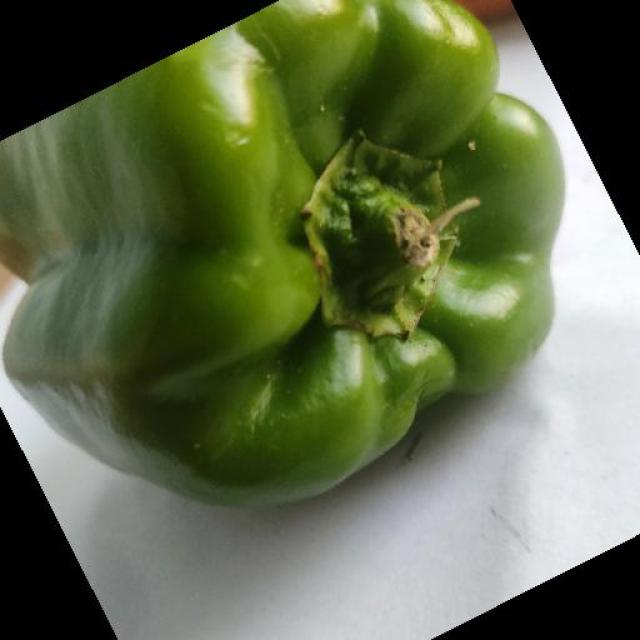Fresh_Capsicum: (51, 81, 515, 486)
